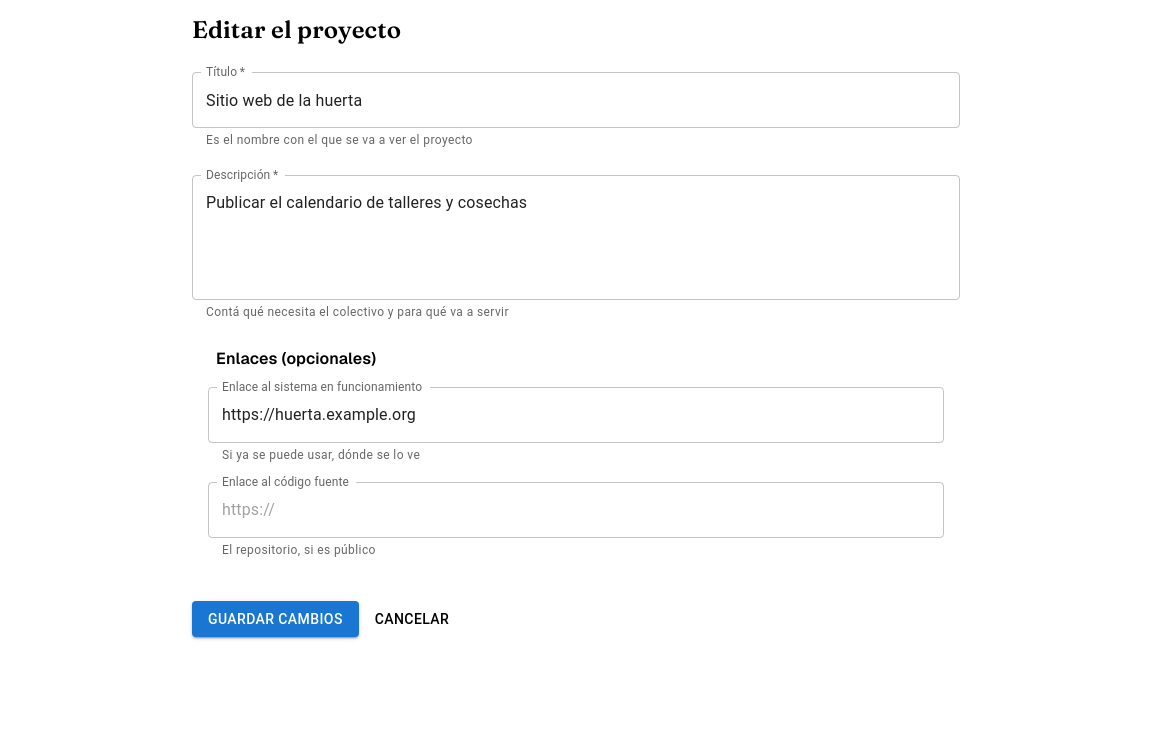
Test: EditarProyecto › sin cambios vuelve al proyecto sin llamar al back
The width and height of the screenshot is (1152, 732).
Expected: the field labelled "Título *" is shown, [192, 72, 960, 128]
What coordinates should you click on to do the following:
click the button "Guardar cambios"
I would click on:
 (275, 619)
Its box is [192, 601, 359, 637].
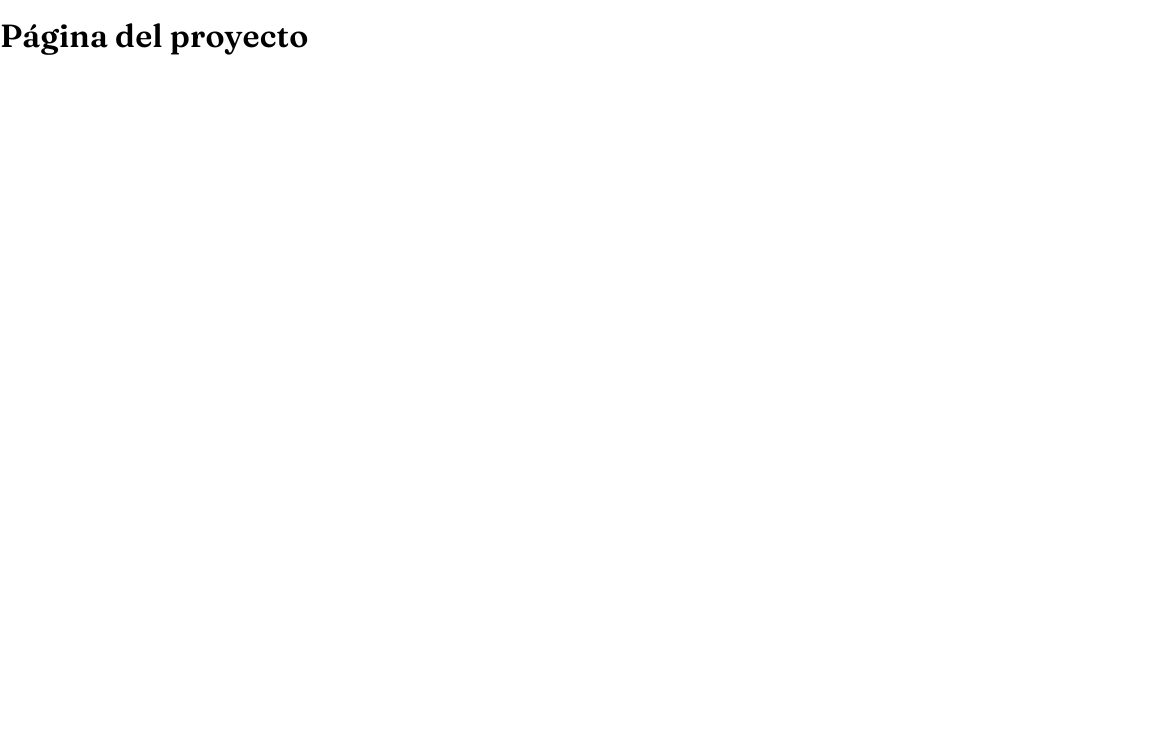
Expected: the heading "Página del proyecto" is shown, [0, 16, 308, 55]
